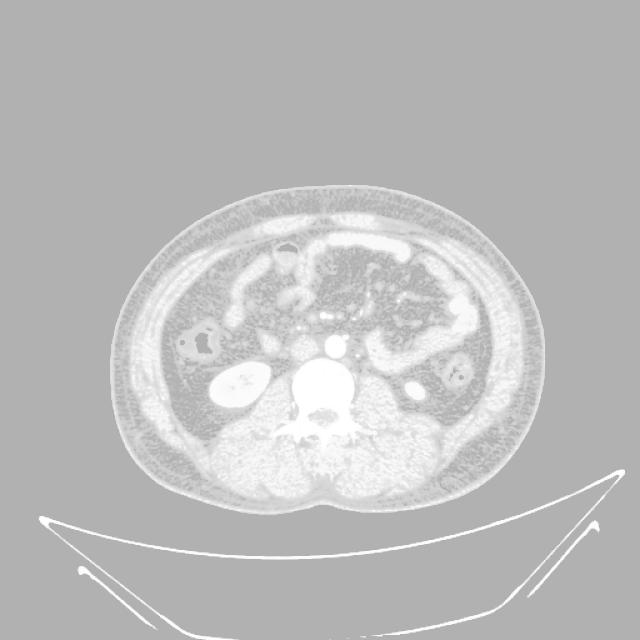NORMAL: (107, 186, 547, 505)
